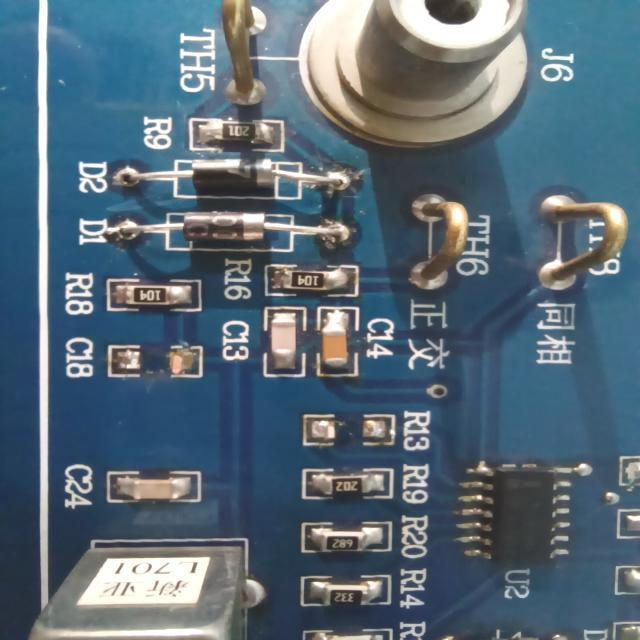Missing component: (292, 399, 442, 458), (58, 334, 212, 385), (612, 448, 640, 491)
